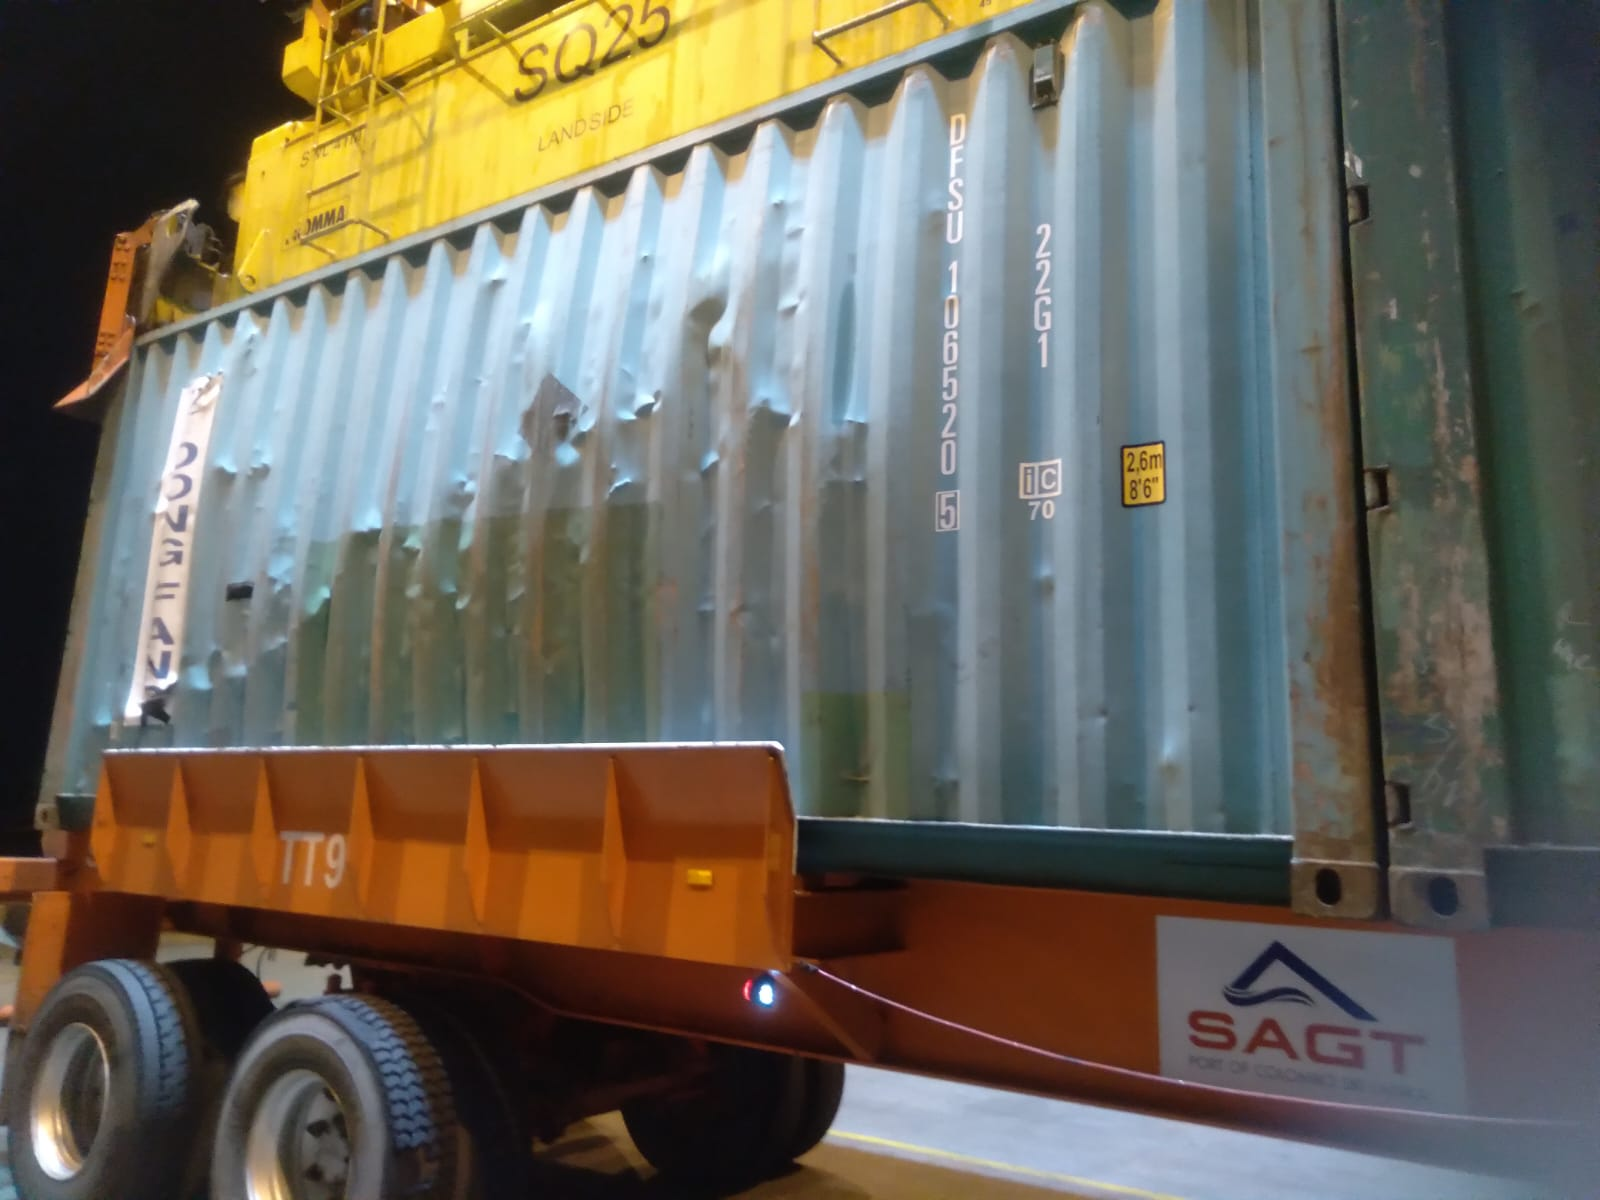moderate: (217, 221, 882, 711)
